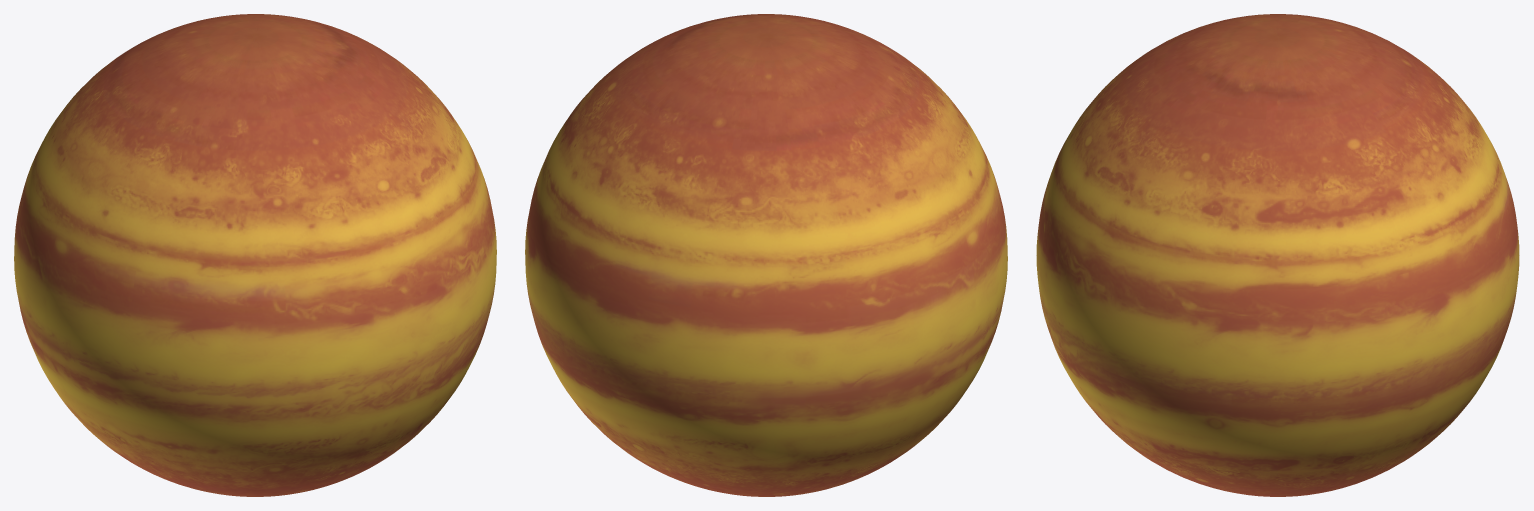
3 views of the same model, side by side, from view 1: azimuth 30°, elevation 25°; view 2: azimuth 150°, elevation 25°; view 3: azimuth 270°, elevation 25° (orthographic).
Visible parts, largest first — view 1: HD_168443_b; view 2: HD_168443_b; view 3: HD_168443_b.
Boxes of the visible parts, bbox=[...] form: HD_168443_b: bbox=[14, 14, 496, 496]; HD_168443_b: bbox=[525, 14, 1007, 496]; HD_168443_b: bbox=[1036, 14, 1519, 496].
Bounding box in the file's own units: 2 × 2 × 2.
1 material, 1 textured.
